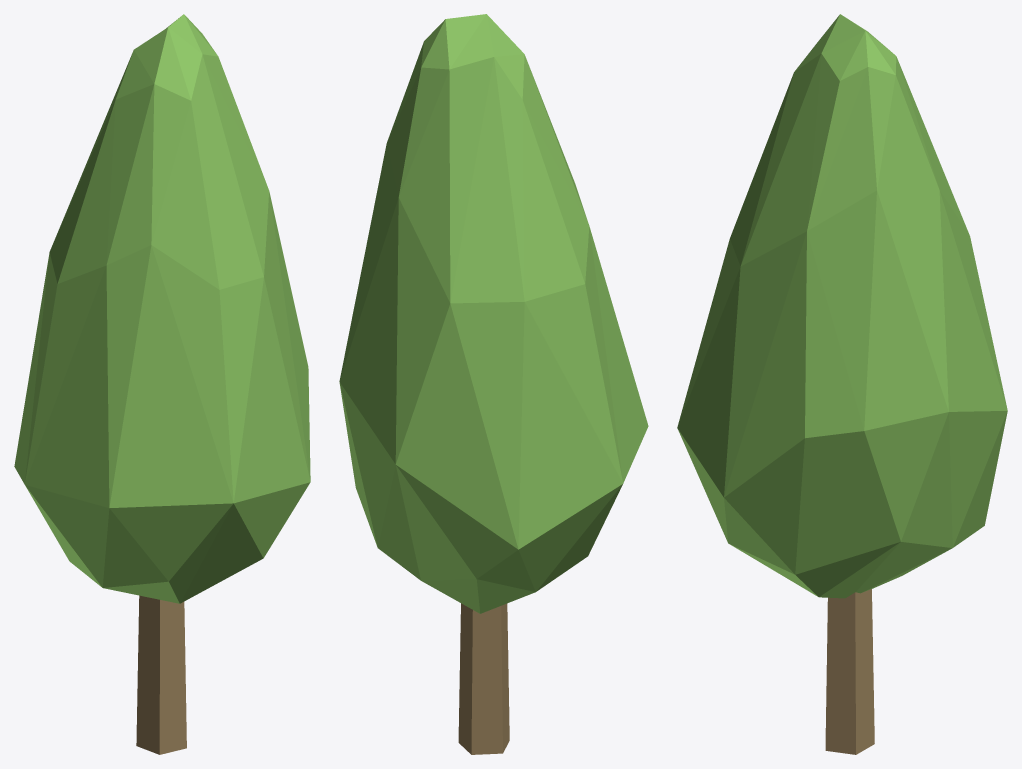
Rendered from Thuja_Tree_s_BT_02.fbx.
The picture shows the model from 3 angles, left to right: view 1: azimuth 30°, elevation 25°; view 2: azimuth 150°, elevation 25°; view 3: azimuth 270°, elevation 25°; orthographic projection.
Visible parts, largest first — view 1: Thuja_Tree_s_BT_02; view 2: Thuja_Tree_s_BT_02; view 3: Thuja_Tree_s_BT_02.
Boxes of the visible parts, x1,y1,x2,y2 form: Thuja_Tree_s_BT_02: (14, 14, 310, 754); Thuja_Tree_s_BT_02: (339, 14, 648, 754); Thuja_Tree_s_BT_02: (677, 14, 1007, 754).
Size of the model in its own units: 138 by 359 by 147.
